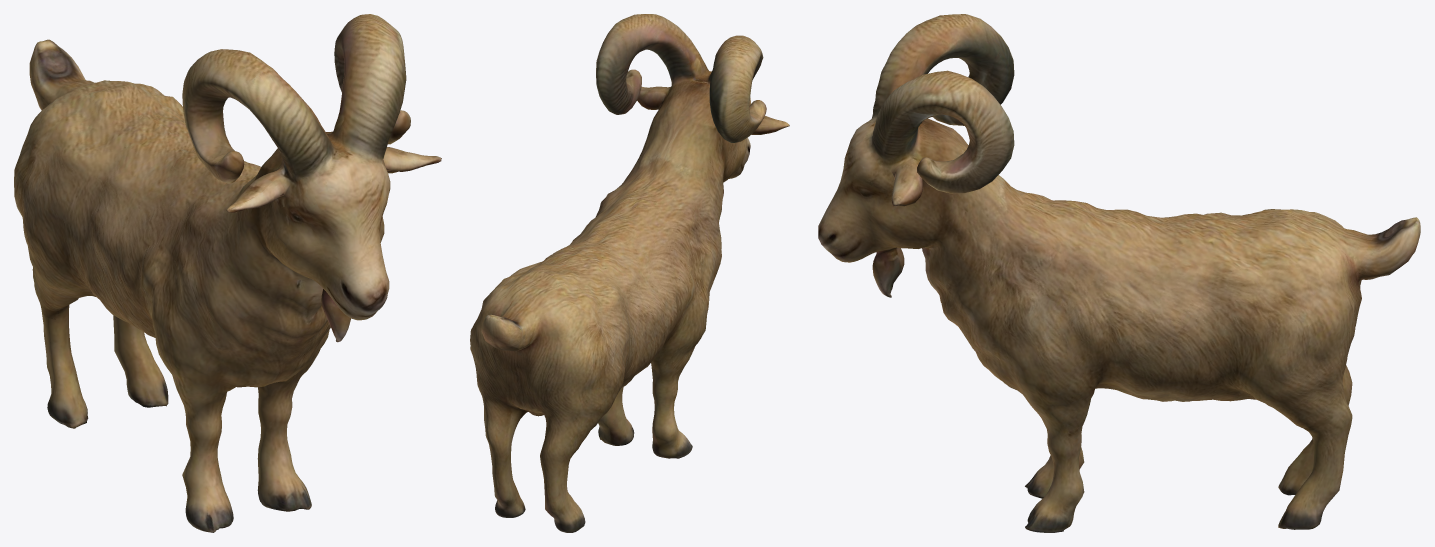
The model's file is goat.glb.
The picture shows the model from 3 angles, left to right: view 1: azimuth 30°, elevation 25°; view 2: azimuth 150°, elevation 25°; view 3: azimuth 270°, elevation 25°; orthographic projection. The views are drawn at different scales.
Size of the model in its own units: 0.7387 by 1.69 by 1.99.
Materials: 1 (1 with a texture image).
